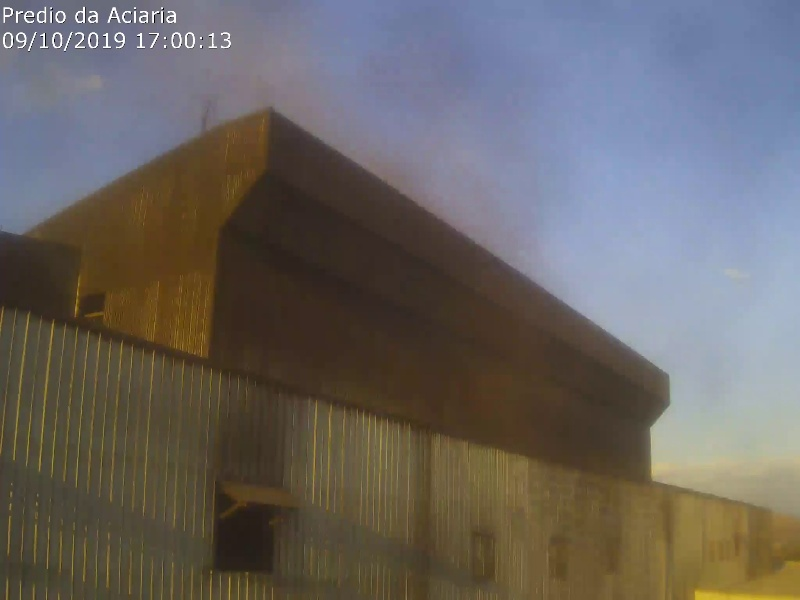pessimo: (169, 11, 582, 443)
